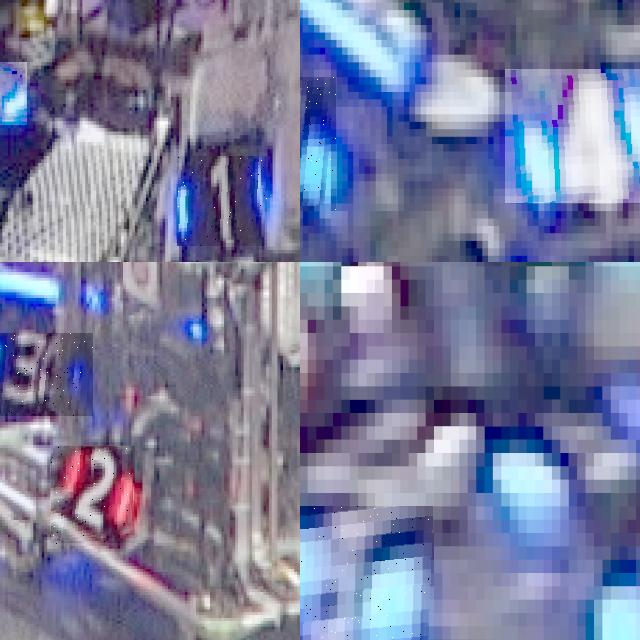B1: (177, 156, 267, 246)
B3: (0, 332, 93, 416)
B4: (504, 69, 640, 203), (300, 77, 336, 211)
B5: (300, 506, 434, 640)
R2: (51, 446, 136, 544)
